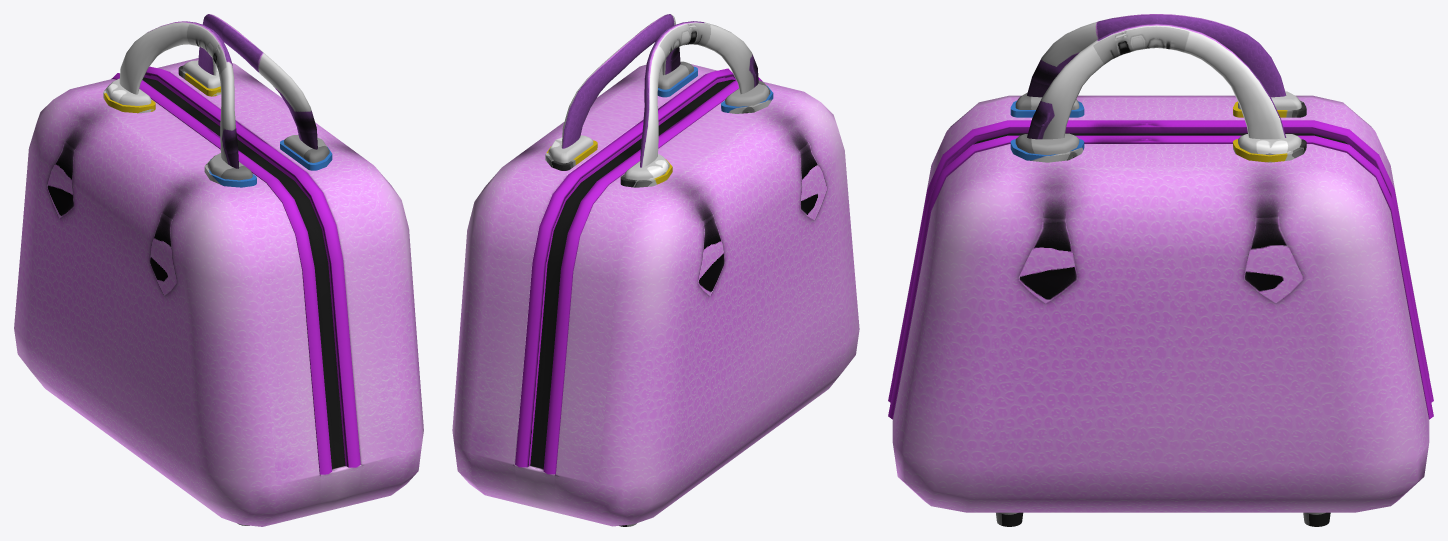
File: bag.fbx
3 renders of one model, left to right at view 1: azimuth 30°, elevation 25°; view 2: azimuth 150°, elevation 25°; view 3: azimuth 270°, elevation 25°, orthographic. The views are drawn at different scales.
Visible parts, largest first — view 1: polySurface3, pCube11, pCube10; view 2: polySurface3, pCube11, pCube10; view 3: polySurface3, pCube10, pCube11.
Part boxes in pixels (box(x1,y1,x2,y2)): polySurface3: box(14, 58, 423, 526); pCube11: box(103, 21, 256, 187); pCube10: box(178, 14, 332, 170); polySurface3: box(452, 64, 859, 526); pCube11: box(620, 21, 773, 187); pCube10: box(545, 14, 697, 170); polySurface3: box(888, 95, 1433, 512); pCube10: box(1010, 23, 1306, 162); pCube11: box(1010, 14, 1306, 117).
Size of the model in its own units: 8.94 by 17.35 by 17.98.
